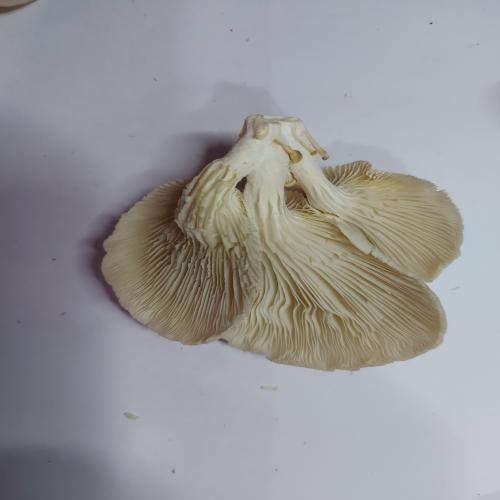Oyster Mushroom: (100, 113, 465, 372)
